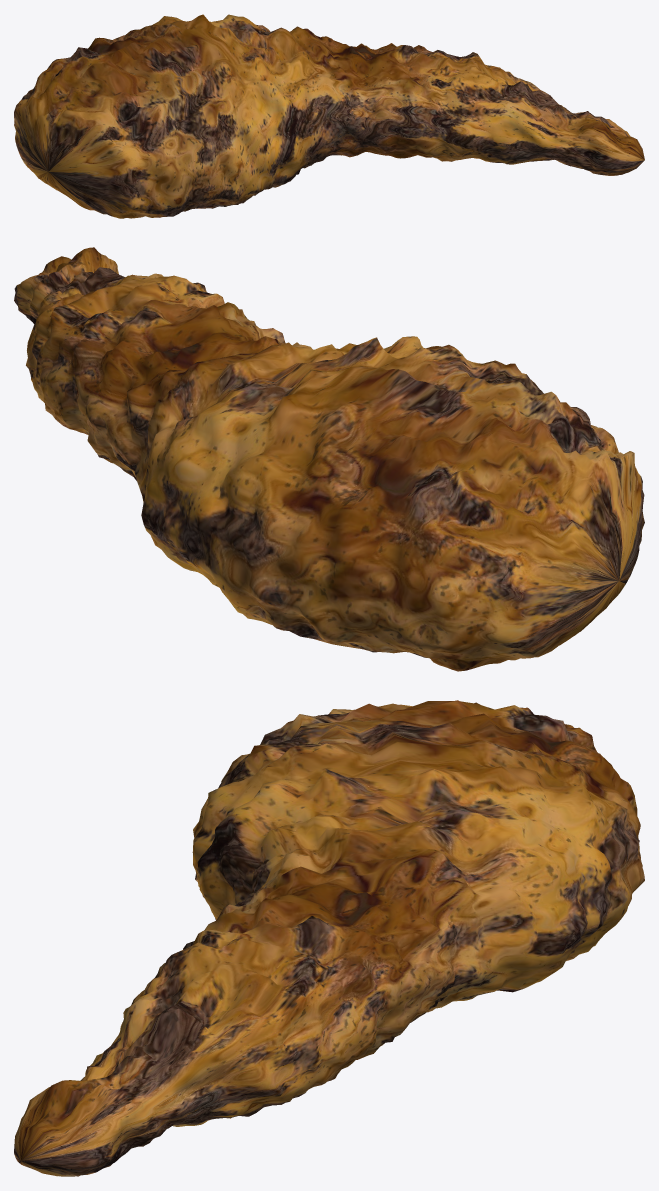
File: chicken-jerk.glb
The picture shows the model from 3 angles, top to bottom: view 1: azimuth 30°, elevation 25°; view 2: azimuth 150°, elevation 25°; view 3: azimuth 270°, elevation 25°; orthographic projection. The views are drawn at different scales.
Parts seen in each view (by area): view 1: Jerk leg quarter; view 2: Jerk leg quarter; view 3: Jerk leg quarter.
Part boxes in pixels (bbox=[...]): Jerk leg quarter: bbox=[14, 14, 644, 218]; Jerk leg quarter: bbox=[14, 247, 644, 671]; Jerk leg quarter: bbox=[14, 700, 644, 1176].
Size of the model in its own units: 3.21 by 0.8853 by 2.3.
1 material, 1 textured.
